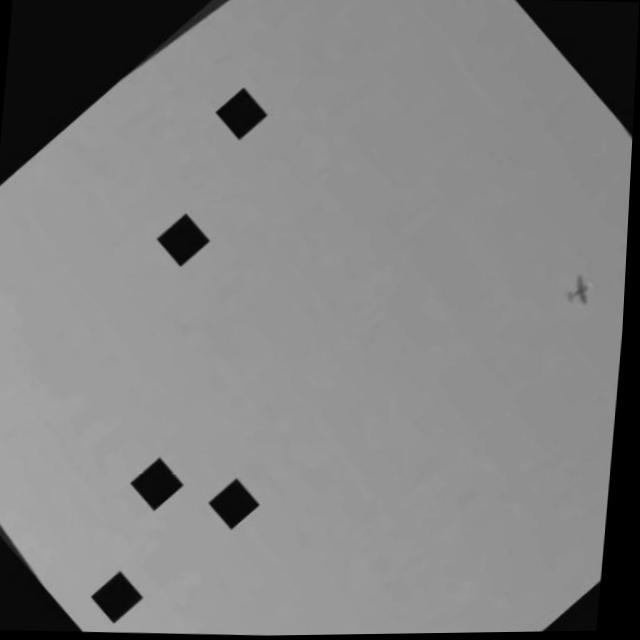aeroplane: (557, 268, 605, 315)
